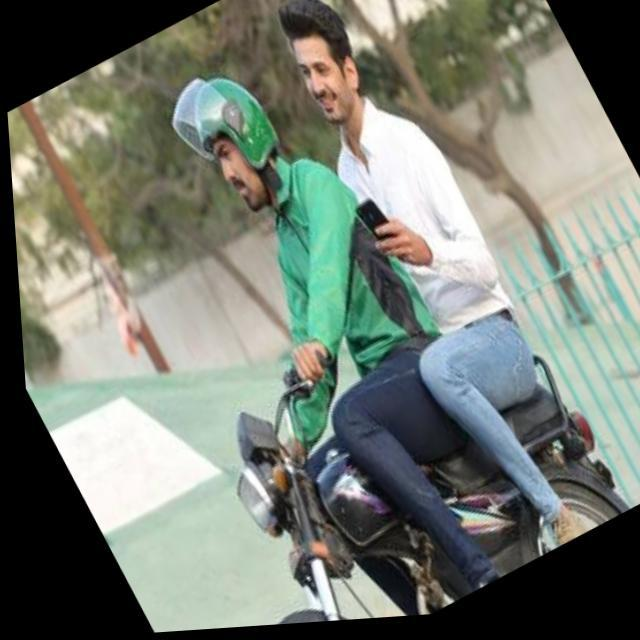Helmet: (165, 62, 284, 224)
Nonhelmet: (275, 0, 393, 133)
